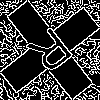R: (25, 25, 81, 83)
